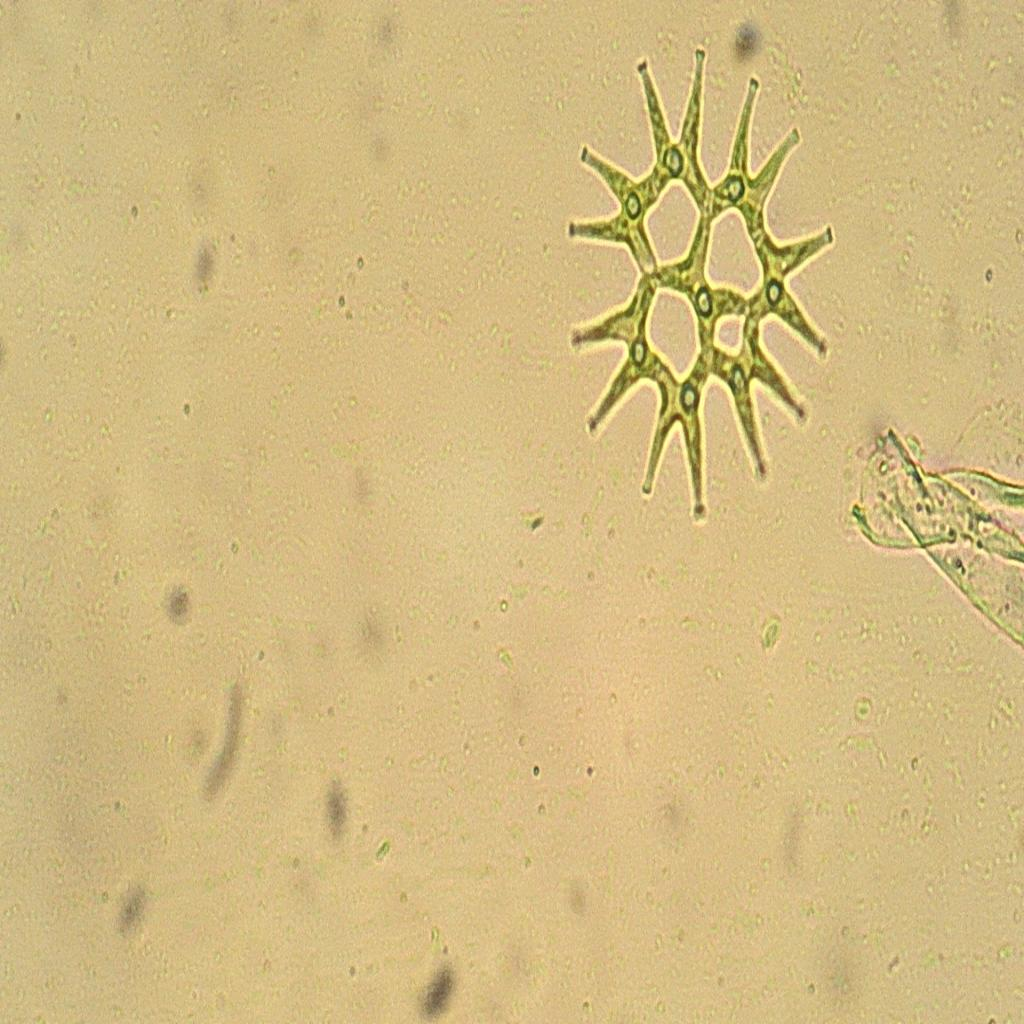Pediastrum_CTH: (550, 29, 840, 537)
